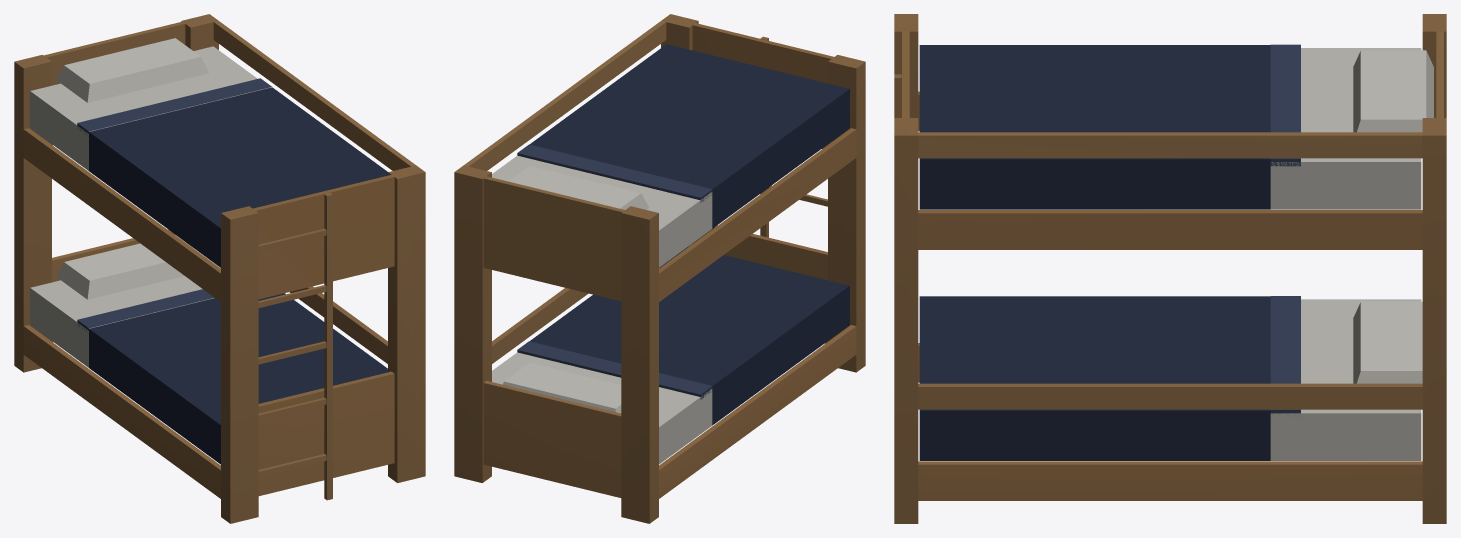
File: bed.bunk.cadet.glb
3 views of the same model, side by side, from view 1: azimuth 30°, elevation 25°; view 2: azimuth 150°, elevation 25°; view 3: azimuth 270°, elevation 25° (orthographic). The views are drawn at different scales.
Parts seen in each view (by area): view 1: bed_bunk_cadet; view 2: bed_bunk_cadet; view 3: bed_bunk_cadet.
Boxes of the visible parts, box(x1,y1,x2,y2) form: bed_bunk_cadet: box(14, 14, 425, 523); bed_bunk_cadet: box(454, 14, 865, 523); bed_bunk_cadet: box(894, 14, 1446, 523).
Size of what is drawn, in the model's own units: 1.14 by 1.7 by 2.19.
